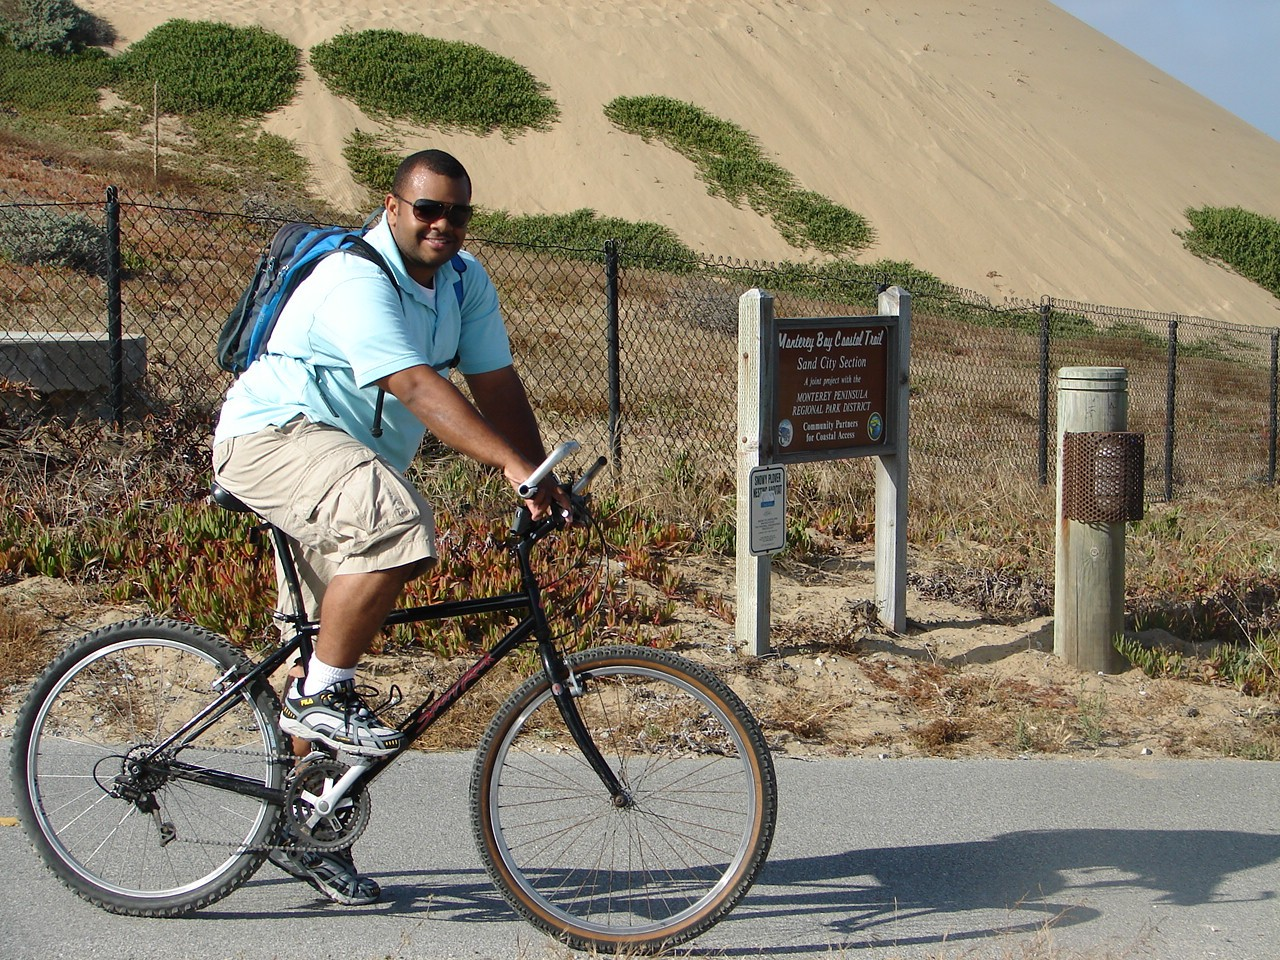bike: (6, 447, 785, 958)
person: (204, 146, 561, 910)
